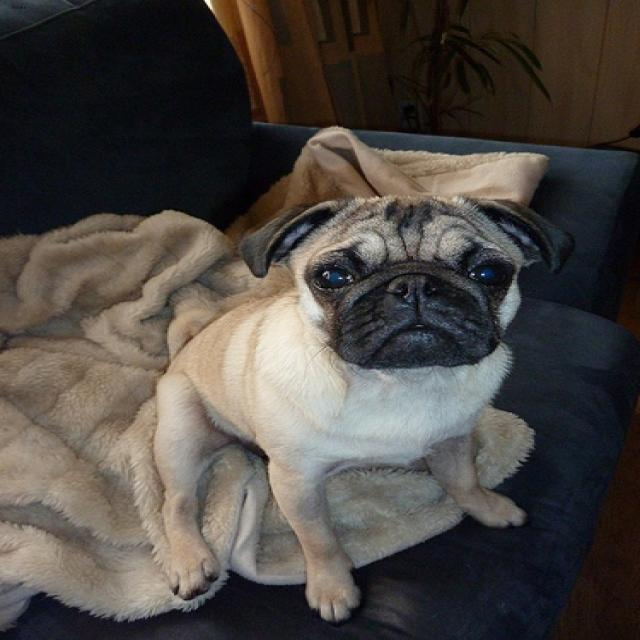dog-pug: (145, 189, 584, 637)
